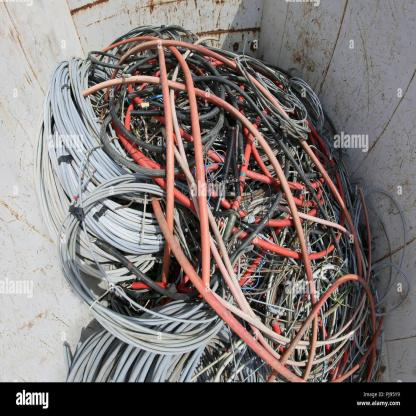wires: (33, 21, 414, 384)
